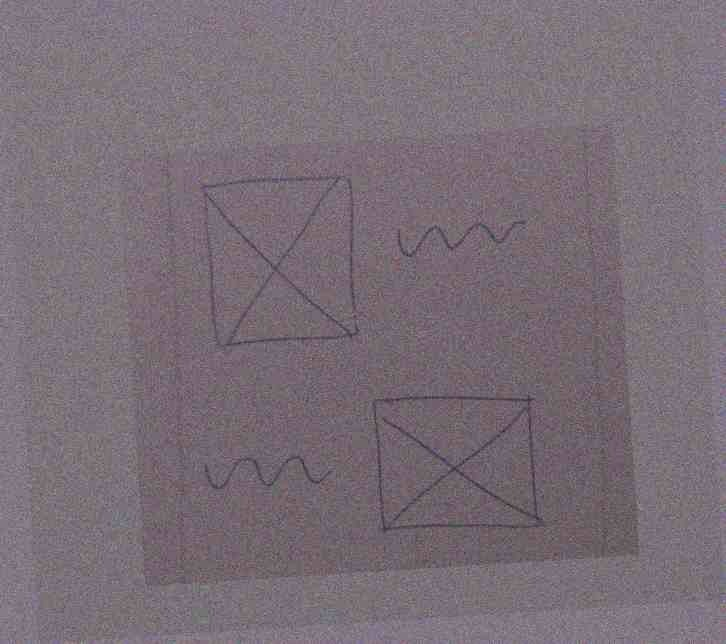image: (195, 168, 365, 352), (366, 381, 551, 549)
text: (388, 201, 530, 269), (194, 440, 336, 507)
